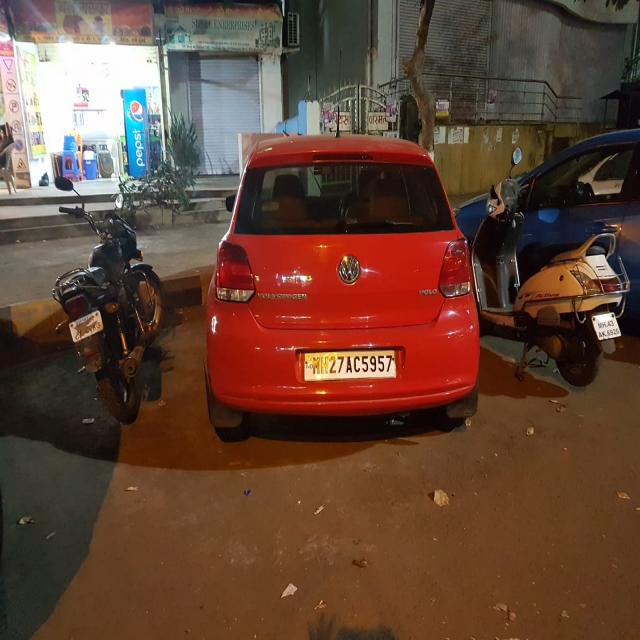Number-Plate: (306, 350, 394, 383)
